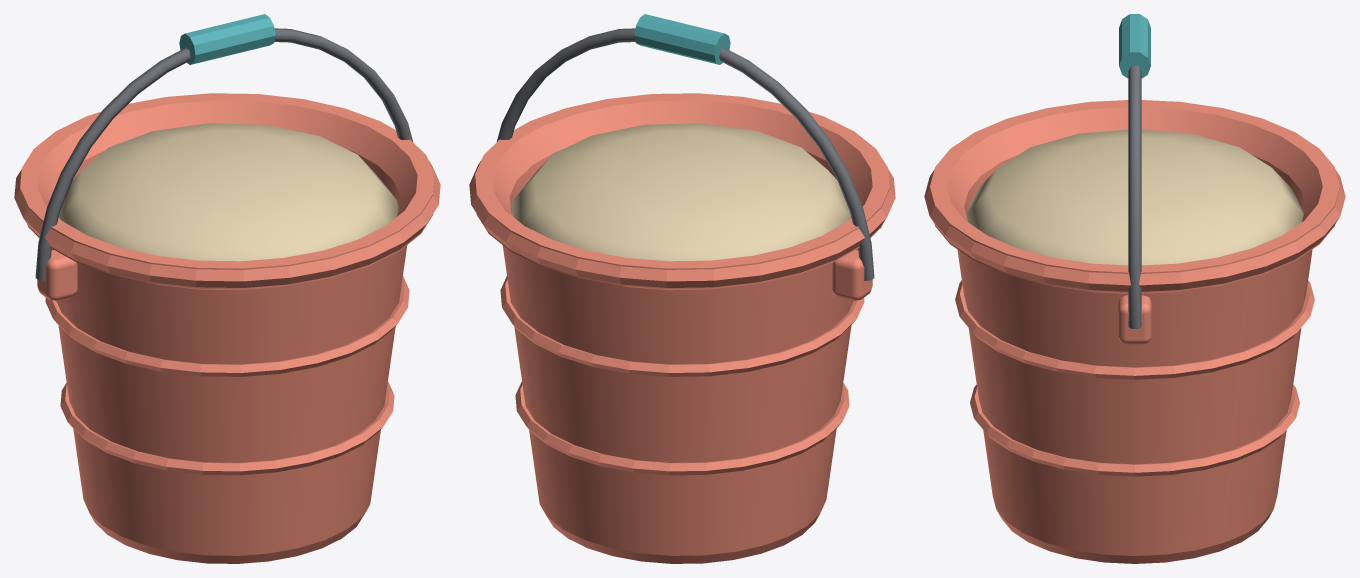
Rendered from beach-surf-and-paddle-kit-sand-bucket-818e0db7__39441.glb.
The picture shows the model from 3 angles, left to right: view 1: azimuth 30°, elevation 25°; view 2: azimuth 150°, elevation 25°; view 3: azimuth 270°, elevation 25°; orthographic projection.
Visible parts, largest first — view 1: sand-bucket-coral, sand-bucket-sand, sand-bucket-charcoal, sand-bucket-teal; view 2: sand-bucket-coral, sand-bucket-sand, sand-bucket-charcoal, sand-bucket-teal; view 3: sand-bucket-coral, sand-bucket-sand, sand-bucket-charcoal, sand-bucket-teal.
Boxes of the visible parts, x1,y1,x2,y2 form: sand-bucket-coral: (14,93,440,563); sand-bucket-sand: (59,123,398,261); sand-bucket-charcoal: (35,28,413,280); sand-bucket-teal: (179,14,275,64); sand-bucket-coral: (469,93,895,563); sand-bucket-sand: (511,123,850,261); sand-bucket-charcoal: (496,28,874,280); sand-bucket-teal: (634,14,730,64); sand-bucket-coral: (924,100,1345,563); sand-bucket-sand: (966,129,1303,265); sand-bucket-charcoal: (1128,65,1141,328); sand-bucket-teal: (1119,14,1150,78).
Bounding box in the file's own units: 0.3804 × 0.4583 × 0.37.
